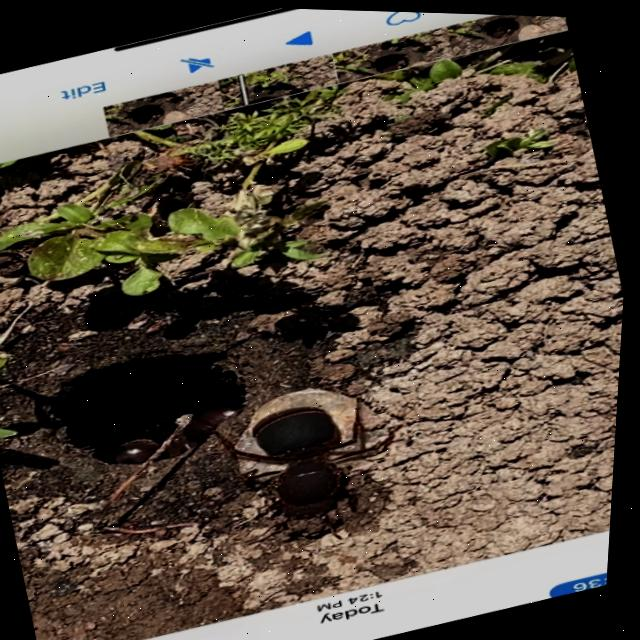Alive-Female-Dealate: (188, 364, 438, 571)
